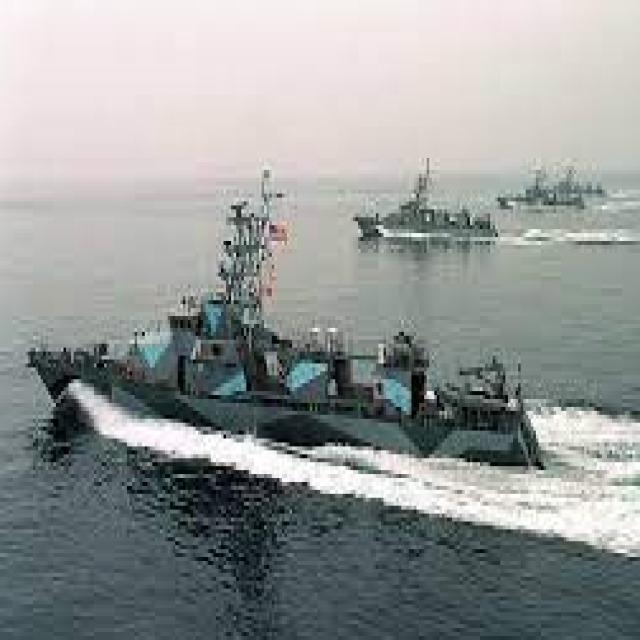navalvessels: (22, 164, 544, 508), (353, 134, 497, 258), (487, 154, 568, 219)
